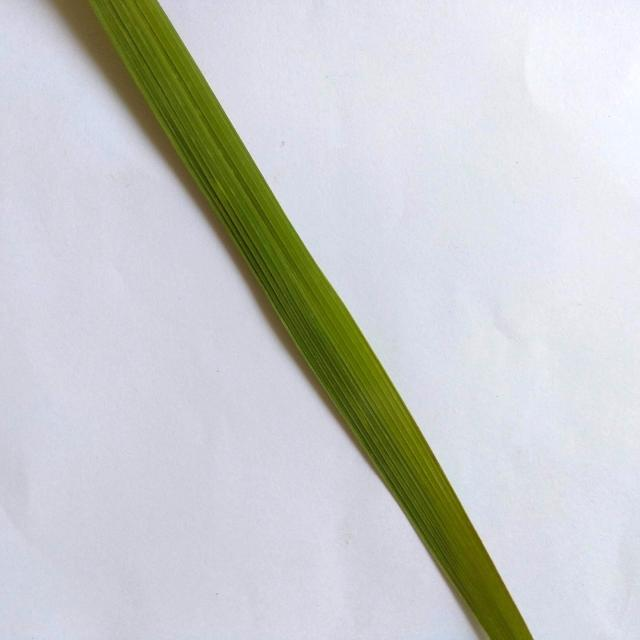Rice_Healthy: (90, 0, 533, 640)
